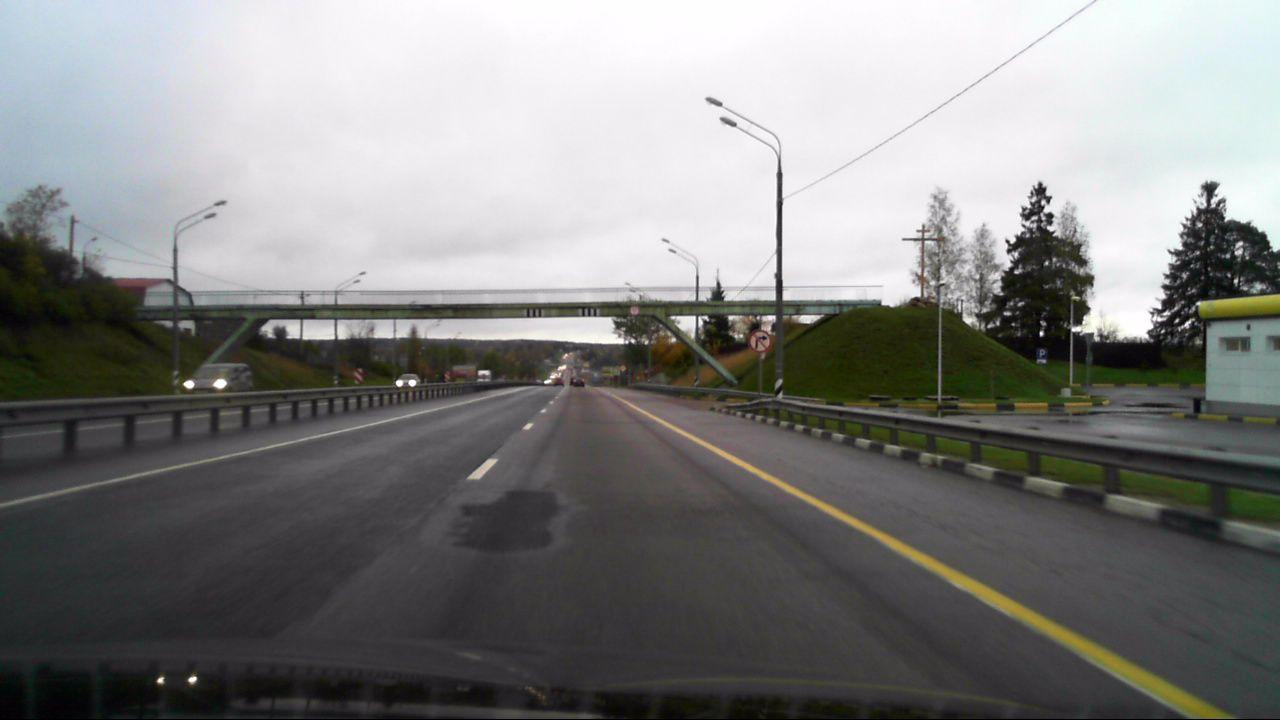3_13: (629, 305, 641, 316)
3_18_1: (749, 330, 770, 350)
6_4: (1037, 348, 1048, 358)
